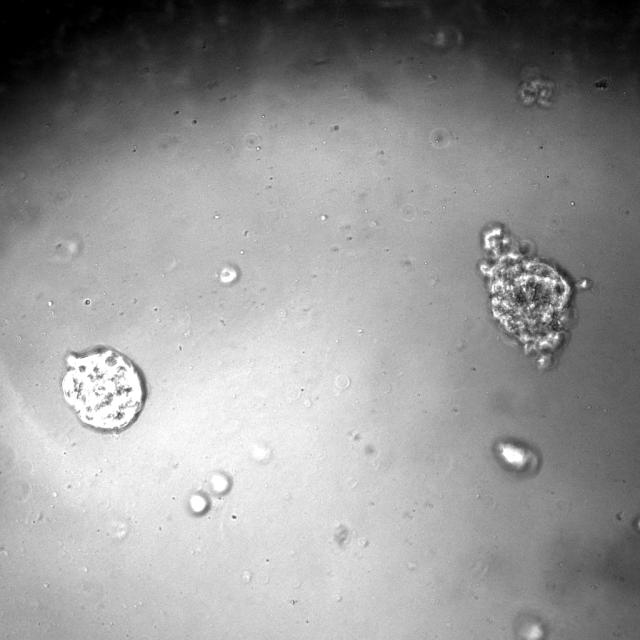organoid: (478, 223, 572, 366), (61, 348, 144, 430), (492, 438, 541, 477), (517, 65, 556, 107), (513, 611, 548, 639), (208, 470, 232, 496), (218, 262, 241, 286), (188, 490, 210, 515)
